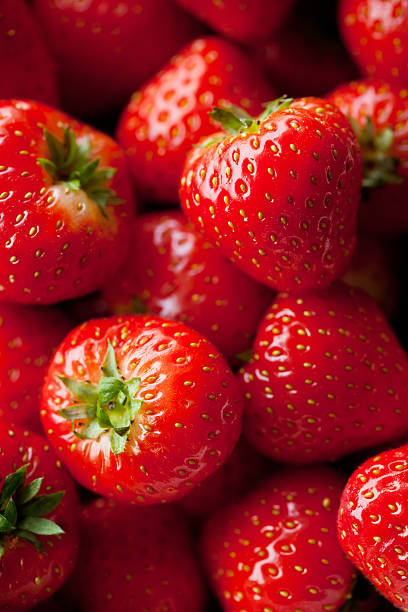Fresa: (38, 313, 248, 513), (177, 94, 364, 295), (1, 92, 143, 314), (243, 280, 408, 469), (2, 417, 87, 611)
